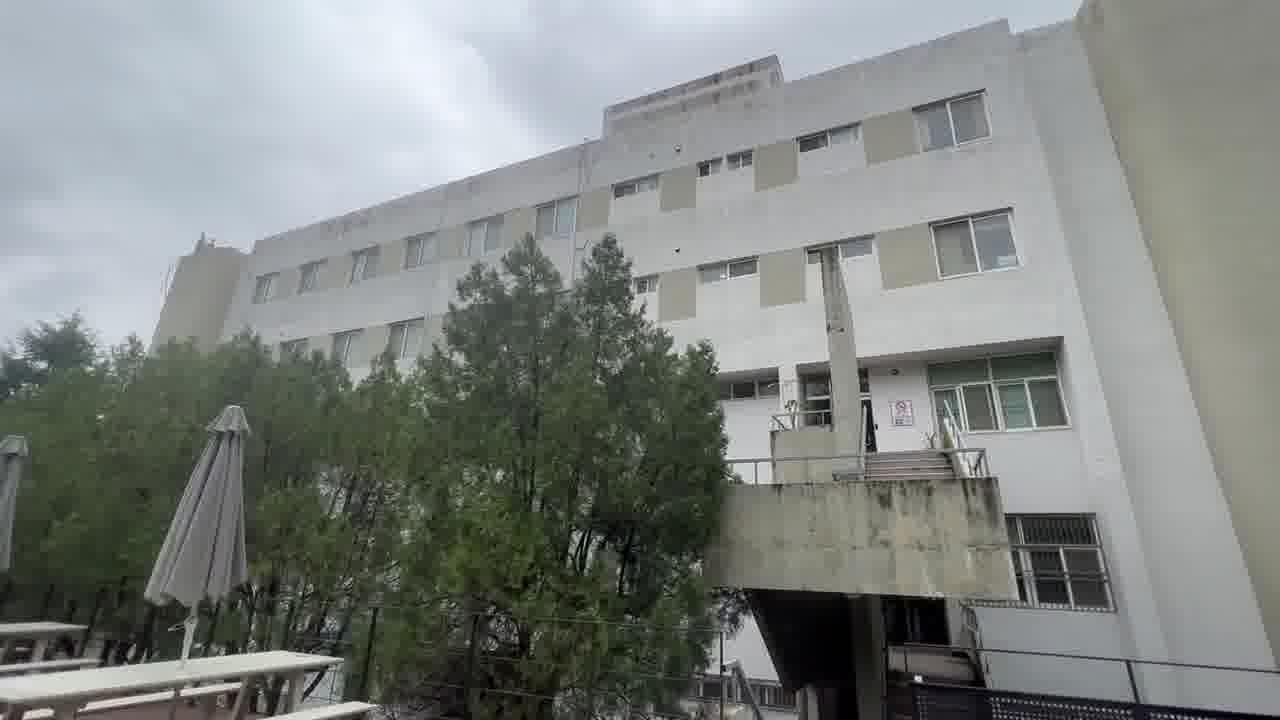building: (722, 54, 1249, 647)
